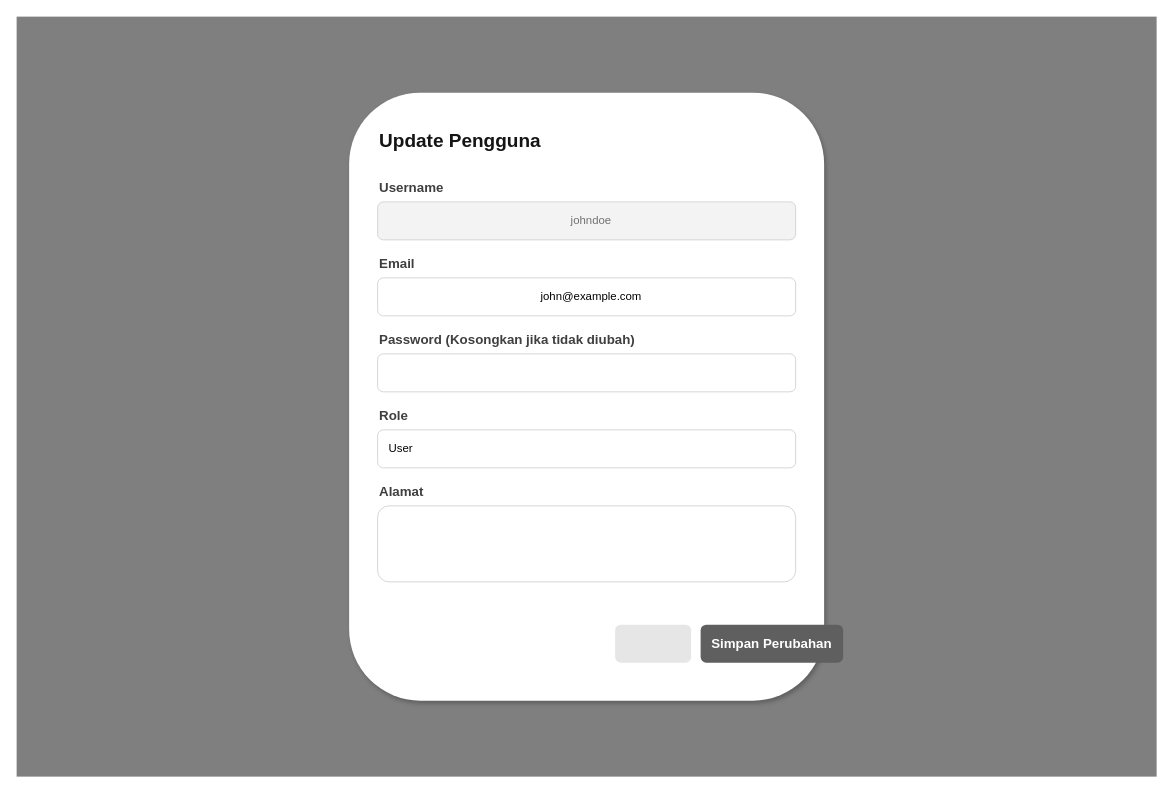
Image size: 1172x792. Some labels were removed from this diagram. The shapes that lost their labels are listed below. From the top down, each one's centre as x and y in pixels, then its label:
the point at 586,543: Jl. Contoh No. 123
the point at 653,643: Batal
